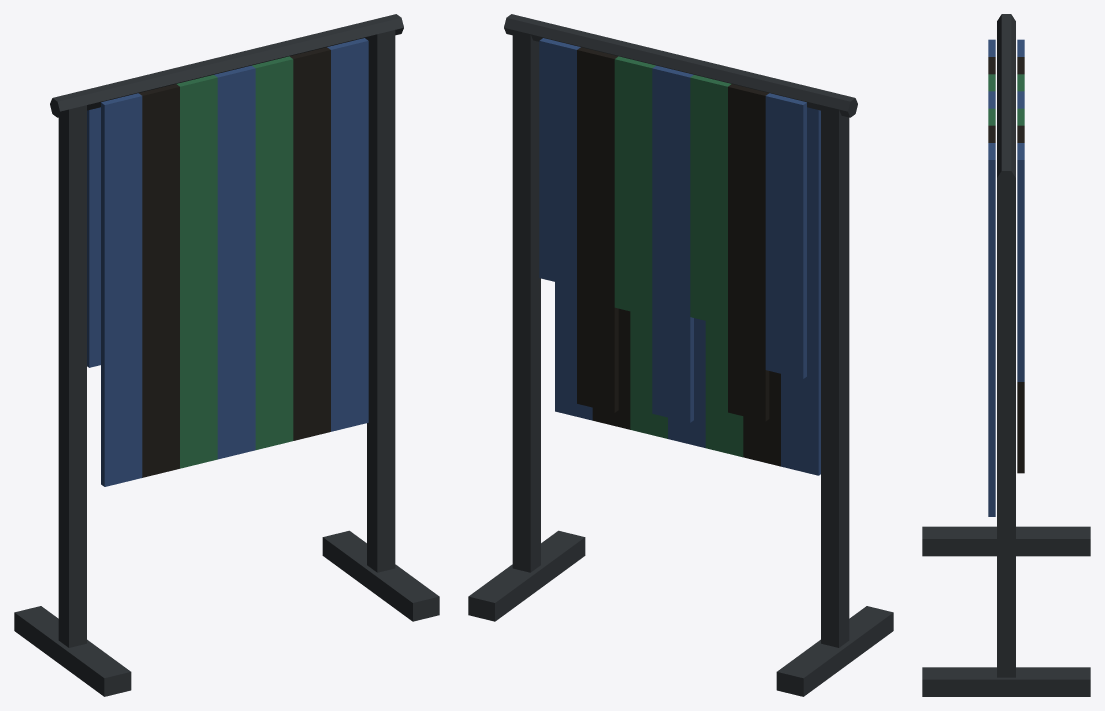
Rendered from kente-throw-roll-44.glb.
3 views of the same model, side by side, from view 1: azimuth 30°, elevation 25°; view 2: azimuth 150°, elevation 25°; view 3: azimuth 270°, elevation 25° (orthographic). The views are drawn at different scales.
Visible parts, largest first — view 1: kente_throw_roll_44; view 2: kente_throw_roll_44; view 3: kente_throw_roll_44.
Part boxes in pixels (x1=…): kente_throw_roll_44: x1=14, y1=14, x2=439, y2=696; kente_throw_roll_44: x1=468, y1=14, x2=893, y2=696; kente_throw_roll_44: x1=922, y1=14, x2=1090, y2=696.
Bounding box in the file's own units: 0.772 × 1.21 × 0.35.
